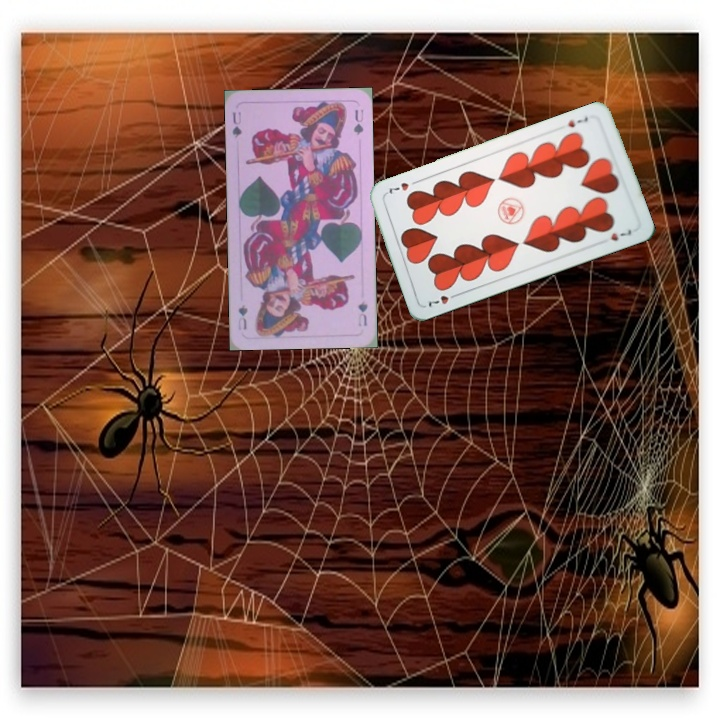GU: (228, 108, 244, 141), (354, 297, 370, 329)
H7: (424, 289, 462, 310), (564, 113, 591, 130)
